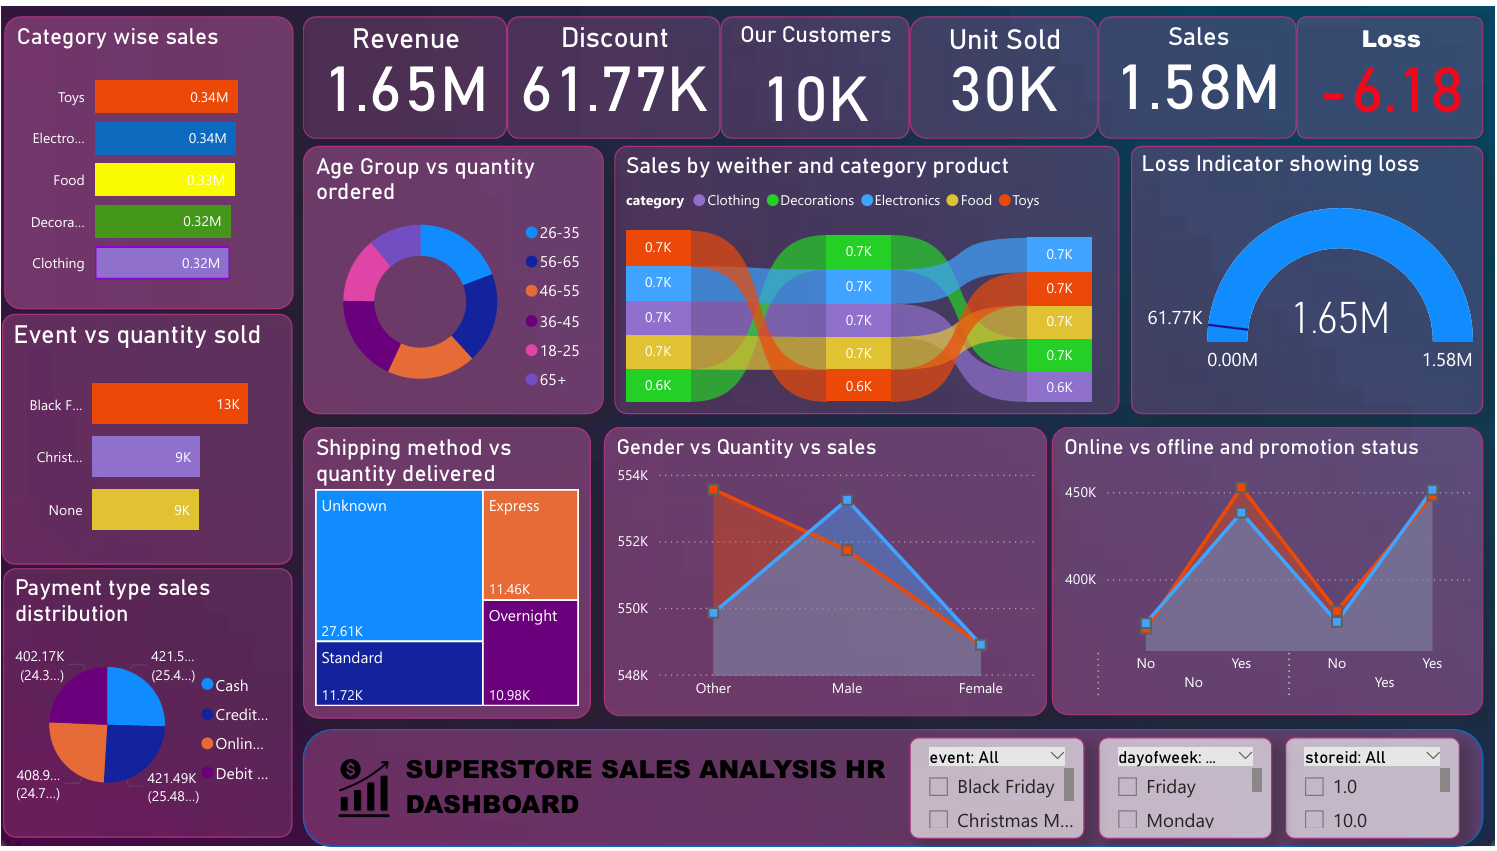

The page's visual inventory and layout, read from the dashboard file:
{"tool":"powerbi","page":{"name":"Page 1","canvas":[1280,720],"ordinal":0},"visuals":[{"type":"card","title":"Our Customers","fields":{"Values":["Sheet1.customers"]},"box":[616.5,8.4,161.7,105],"z":0},{"type":"card","title":"Sales ","fields":{"Values":["Sheet1.revenue"]},"box":[939.8,8.4,170.1,105],"z":1000},{"type":"card","title":"Loss","fields":{"Values":["Sheet1.profit"]},"box":[1109.9,8.4,160.5,105],"z":2000},{"type":"card","title":"Revenue","fields":{"Values":["Sheet1.revenue"]},"box":[258.2,8.4,174.9,105],"z":3000},{"type":"card","title":"Discount","fields":{"Values":["Sheet1.Total Discount given"]},"box":[433.1,8.4,183.4,105],"z":4000},{"type":"card","title":"Unit Sold","fields":{"Values":["Sheet1.units sold"]},"box":[778.2,8.4,161.7,105],"z":5000},{"type":"barChart","title":"Category wise sales","fields":{"Category":["Sheet1.category"],"Y":["Sum(Sheet1.totalprice)"]},"box":[2.4,8.4,247.3,250.9],"z":6000},{"type":"barChart","title":"Event vs quantity sold","fields":{"Category":["Sheet1.event"],"Y":["Sum(Sheet1.quantity)"]},"box":[0,263,248.5,214.7],"z":7000},{"type":"pieChart","title":"Payment type sales distribution","fields":{"Y":["Sum(Sheet1.totalprice)"],"Category":["Sheet1.paymenttype"]},"box":[1.2,481.4,247.3,230.4],"z":8000},{"type":"ribbonChart","title":"Sales by weither and category product","fields":{"Category":["Sheet1.weather"],"Y":["CountNonNull(Sheet1.gender)"],"Series":["Sheet1.category"]},"box":[524.8,119.4,433.1,229.2],"z":9000},{"type":"donutChart","title":"Age Group vs quantity ordered","fields":{"Category":["Sheet1.agegroup"],"Y":["CountNonNull(Sheet1.quantity)"]},"box":[258.2,119.4,258.2,229.2],"z":10000},{"type":"treemap","title":"Shipping method vs quantity delivered ","fields":{"Group":["Sheet1.shippingmethod"],"Values":["Sum(Sheet1.discountamount)"]},"box":[258.2,359.5,247.3,250.9],"z":11000},{"type":"gauge","title":"Loss Indicator showing loss","fields":{"Y":["Sheet1.revenue"],"MaxValue":["Sheet1.sales"],"TargetValue":["Sheet1.Total Discount given"]},"box":[967.6,119.4,302.8,229.2],"z":12000},{"type":"lineChart","title":"Gender vs Quantity vs sales ","fields":{"Y":["Sum(Sheet1.totalprice)"],"Category":["Sheet1.gender"],"Y2":["CountNonNull(Sheet1.quantity)"]},"box":[516.4,359.5,380,248.5],"z":13000},{"type":"lineChart","title":"Online vs offline and promotion status","fields":{"Y":["Sum(Sheet1.totalprice)"],"Y2":["CountNonNull(Sheet1.quantity)"],"Category":["Sheet1.promotionapplied","Sheet1.onlineorderflag"]},"box":[900,359.5,370.4,247.3],"z":14000},{"type":"shape","box":[258.2,618.9,1012.2,101.3],"z":15000},{"type":"textbox","box":[341.4,633.4,423.5,72.4],"z":16000},{"type":"slicer","fields":{"Values":["Sheet1.storeid"]},"box":[1100.3,626.1,149.6,86.9],"z":17000},{"type":"slicer","fields":{"Values":["Sheet1.dayofweek"]},"box":[939.8,626.1,149.6,86.9],"z":18000},{"type":"slicer","fields":{"Values":["Sheet1.event"]},"box":[778.2,626.1,149.6,86.9],"z":19000},{"type":"image","box":[279.9,638.2,61.5,61.5],"z":20000}]}

Visuals, with their boxes in screenshot pixels (x1, y1, x2, y2), scaled from the page's 1280x720 canvas onto the 1497x851 screenshot:
"Our Customers" card: detection(721, 10, 910, 134)
"Sales " card: detection(1099, 10, 1298, 134)
"Loss" card: detection(1298, 10, 1486, 134)
"Revenue" card: detection(302, 10, 507, 134)
"Discount" card: detection(507, 10, 721, 134)
"Unit Sold" card: detection(910, 10, 1099, 134)
"Category wise sales" barChart: detection(3, 10, 292, 306)
"Event vs quantity sold" barChart: detection(0, 311, 291, 565)
"Payment type sales distribution" pieChart: detection(1, 569, 291, 841)
"Sales by weither and category product" ribbonChart: detection(614, 141, 1120, 412)
"Age Group vs quantity ordered" donutChart: detection(302, 141, 604, 412)
"Shipping method vs quantity delivered " treemap: detection(302, 425, 591, 721)
"Loss Indicator showing loss" gauge: detection(1132, 141, 1486, 412)
"Gender vs Quantity vs sales " lineChart: detection(604, 425, 1048, 719)
"Online vs offline and promotion status" lineChart: detection(1053, 425, 1486, 717)
shape: detection(302, 732, 1486, 850)
textbox: detection(399, 749, 895, 834)
slicer - Sheet1.storeid: detection(1287, 740, 1462, 843)
slicer - Sheet1.dayofweek: detection(1099, 740, 1274, 843)
slicer - Sheet1.event: detection(910, 740, 1085, 843)
image: detection(327, 754, 399, 827)
